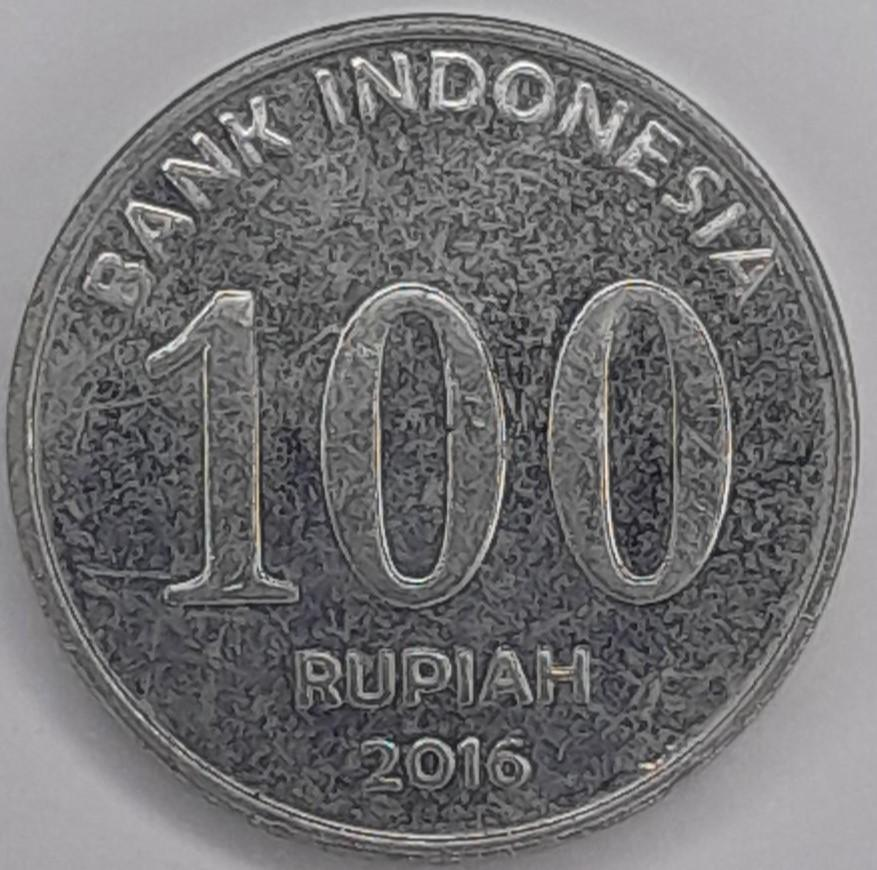coin_100_e2016: (1, 6, 864, 865)
